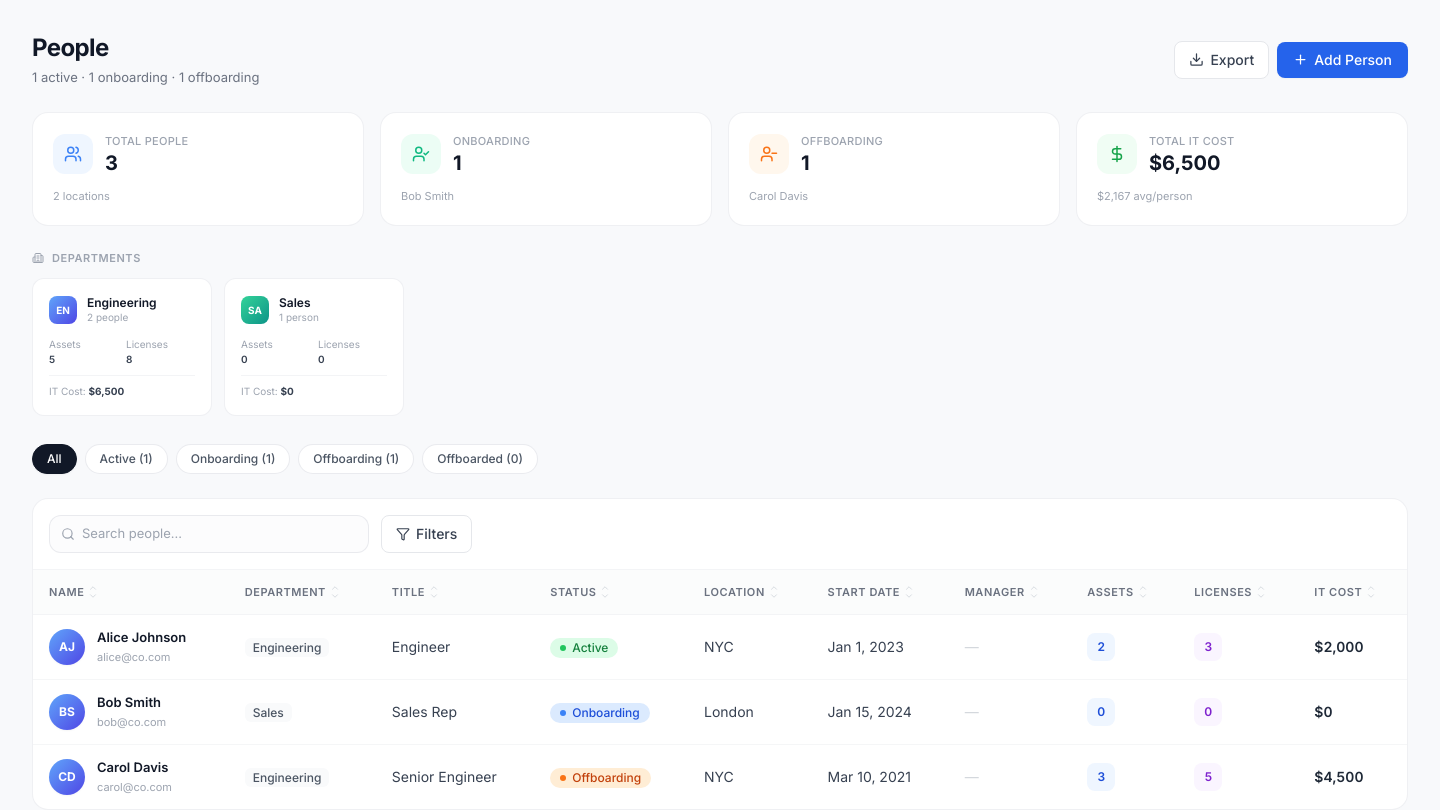
PeopleList page › filters people by name when the user types in the search input
Step 1. Type "Alice" into the field with placeholder "Search people..." → (209, 534), box x1=49 y1=515 x2=369 y2=553
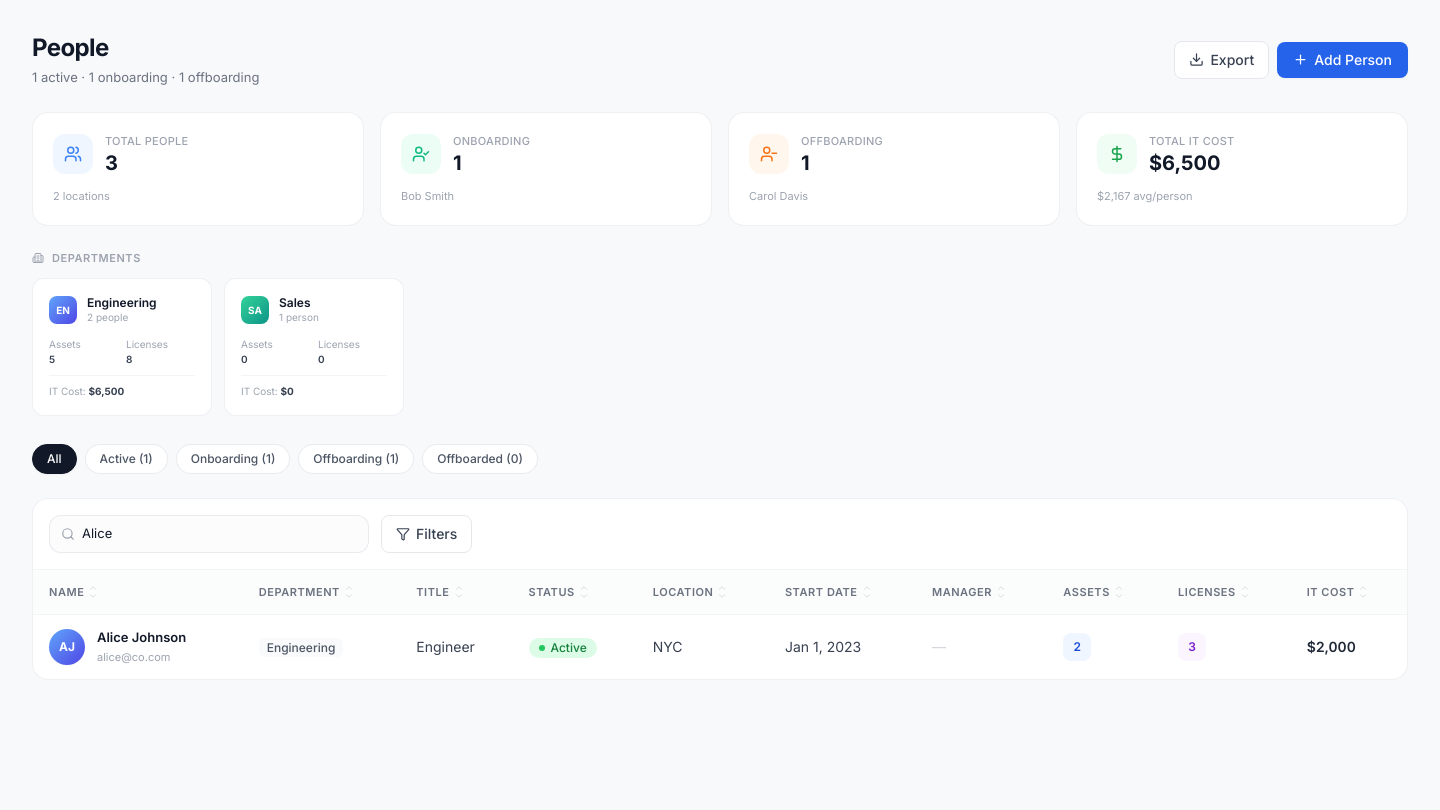
Expected: the text "bob@co.com" is gone
Expected: the text "carol@co.com" is gone
